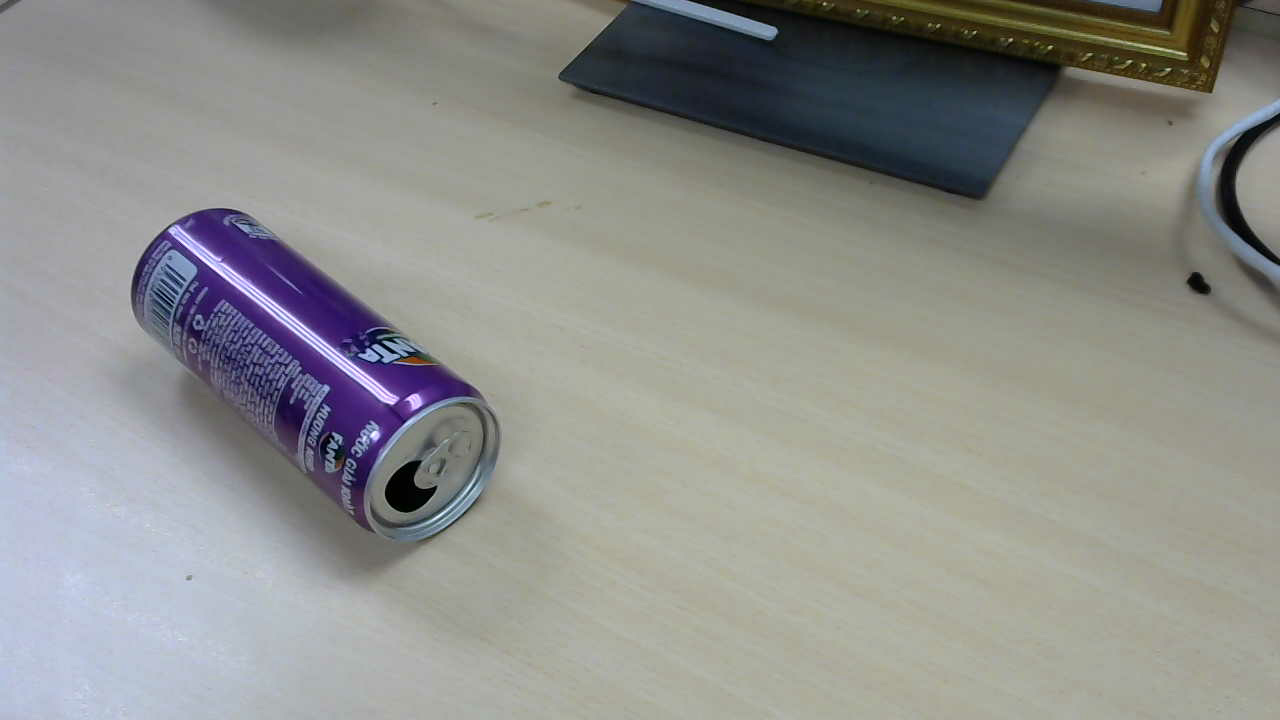Fanta: (132, 210, 507, 548)
